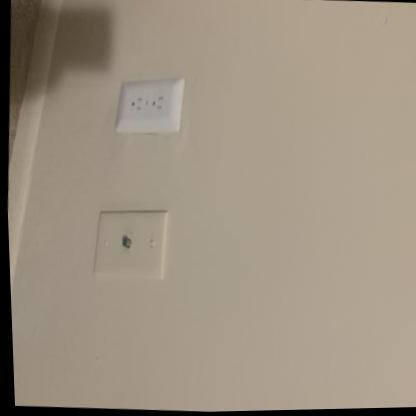OUTLET: (112, 71, 187, 136)
